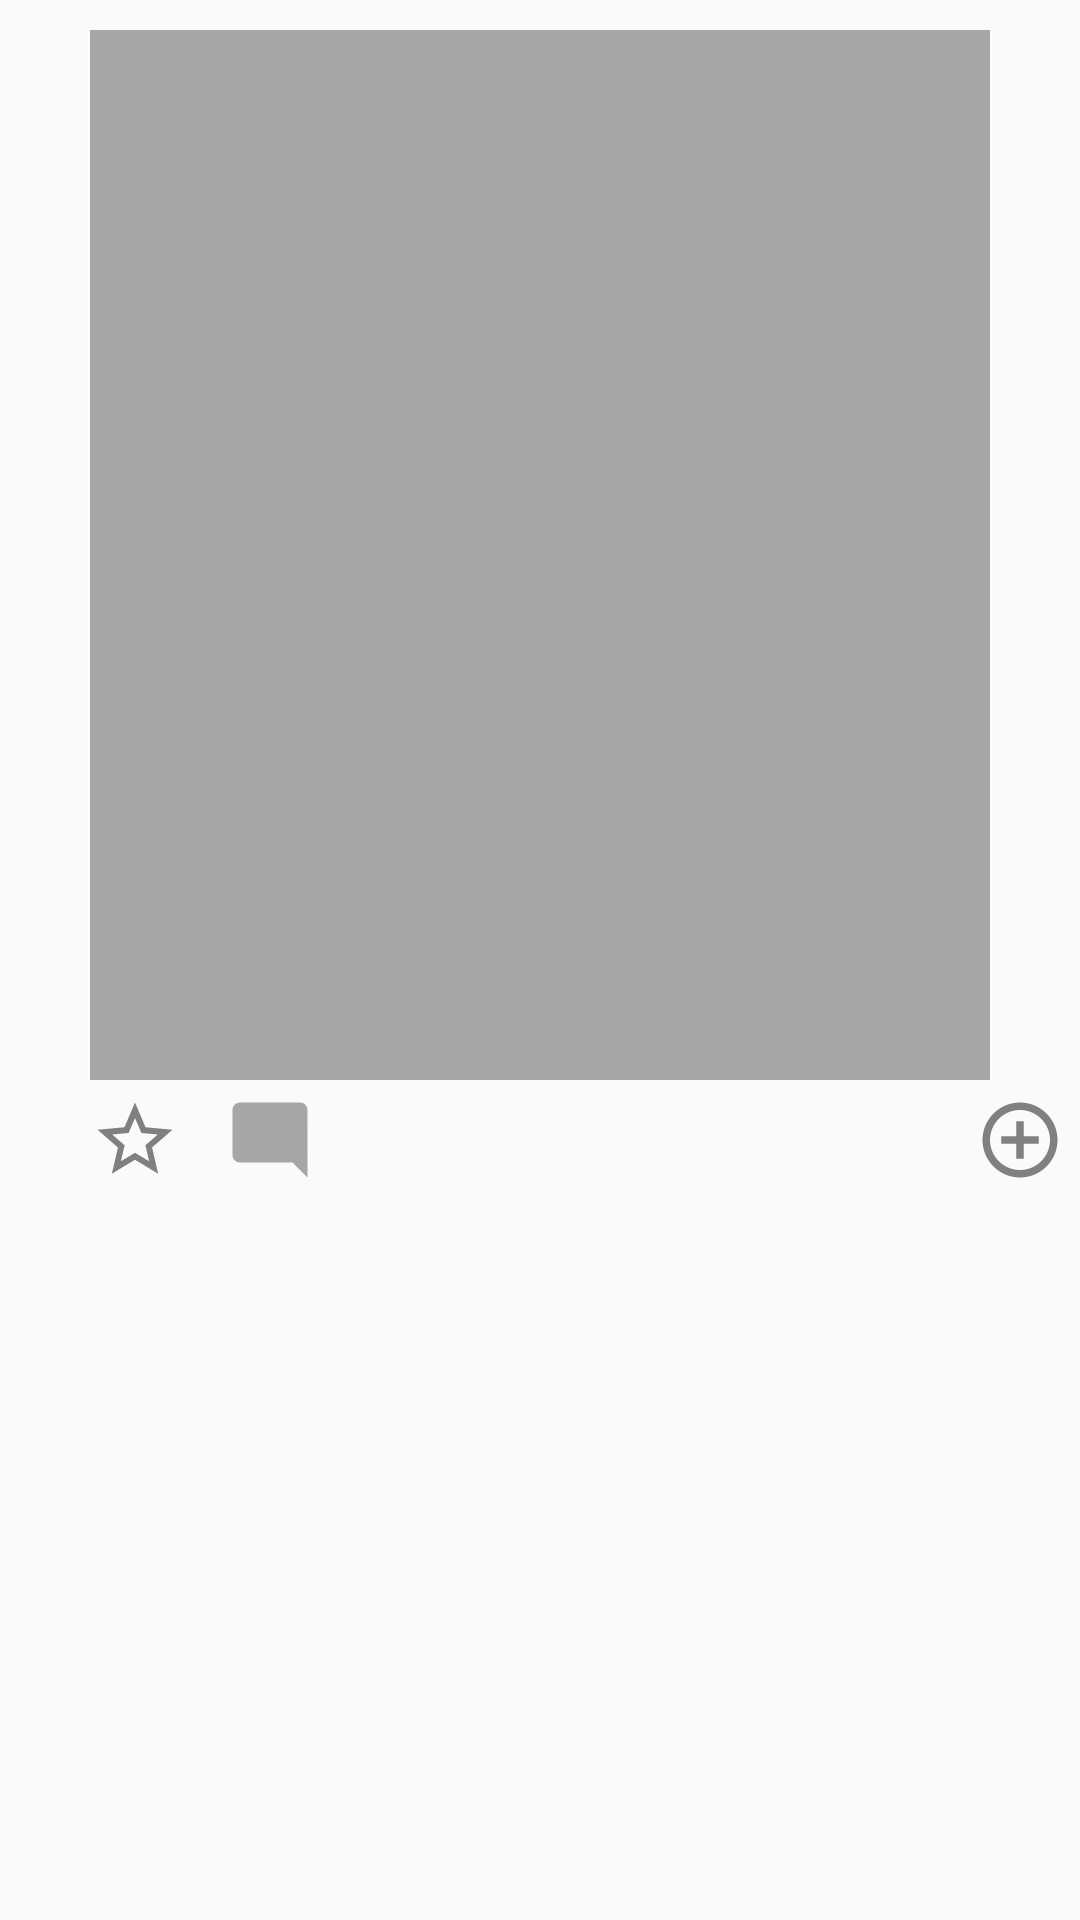

Point at icon controls on the screen. Image size 1080 × 1920, points as (x,y).
add circle: (1020,1140)
mode comment: (270,1139)
star border: (135,1138)
